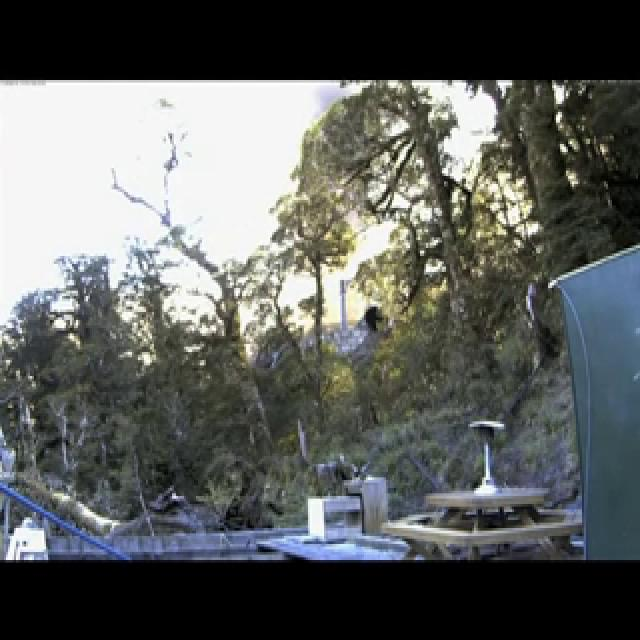explosion: (55, 34, 560, 538)
